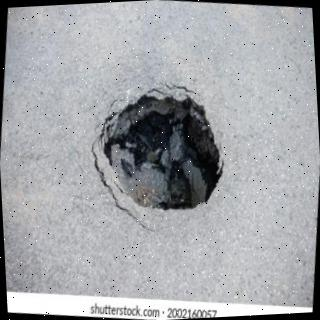pothole: (92, 86, 223, 212)
